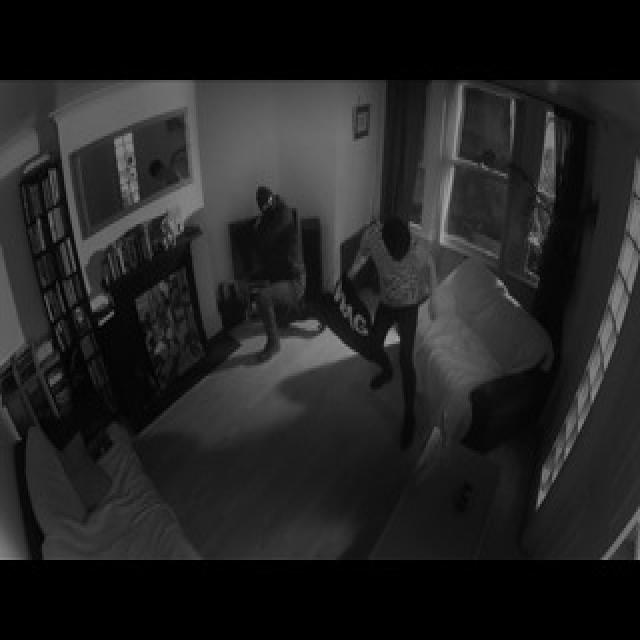thief: (226, 185, 307, 354), (348, 207, 424, 385)
